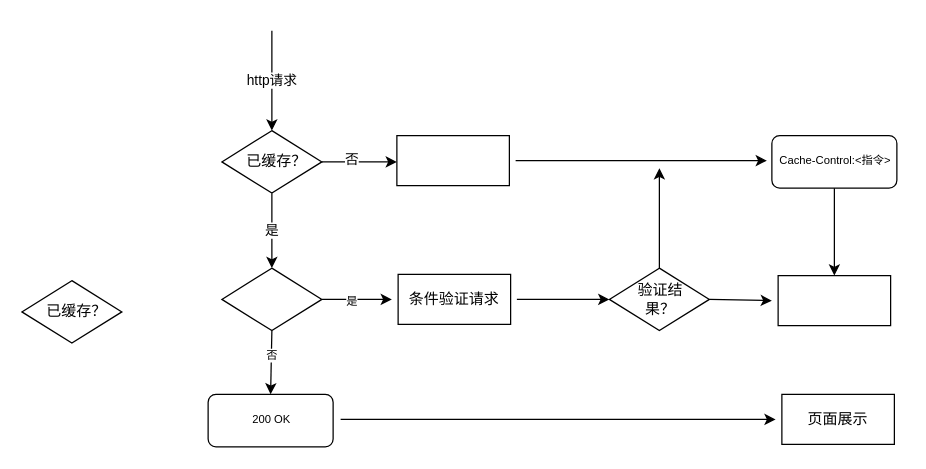
Image size: 926x469. Some labels were removed from this diagram. Here are the shapes that lost their labels. From the top down, the centre of each, then its label:
At pixel 452 160: "从服务端获取".
At pixel 271 299: "已过期？".
At pixel 834 300: "保存缓存".
